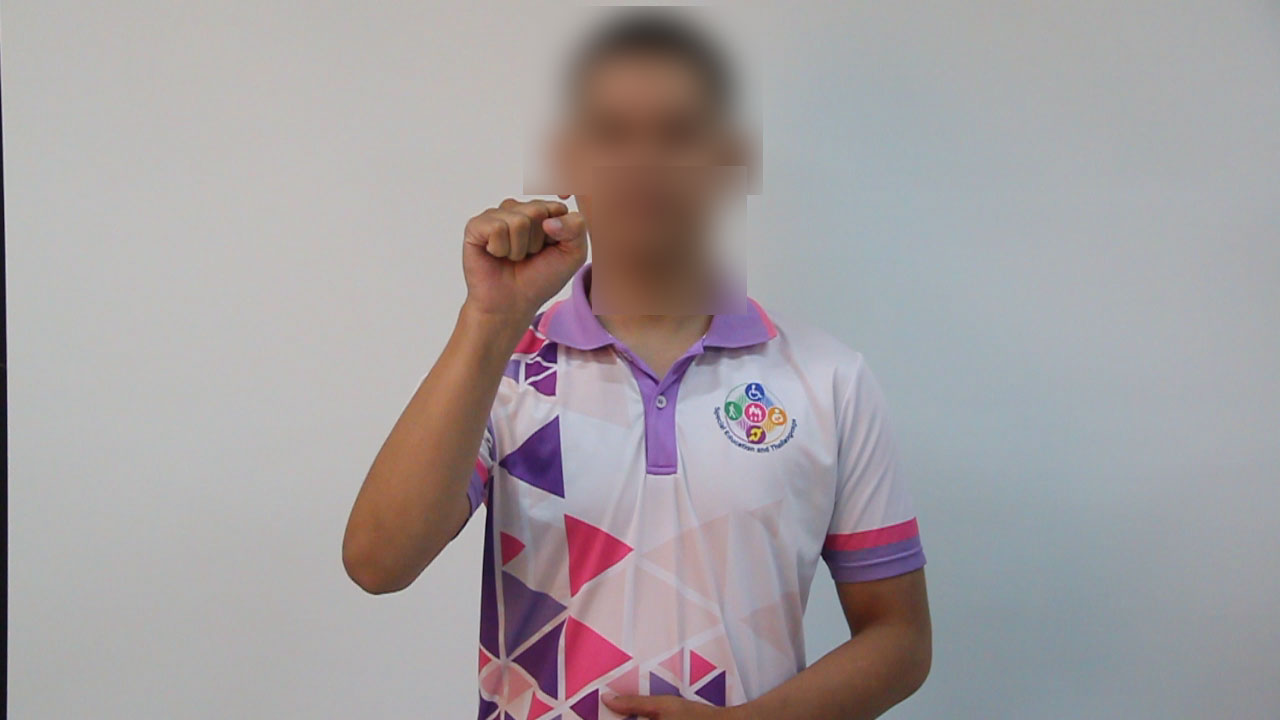sor: (448, 184, 596, 334)
